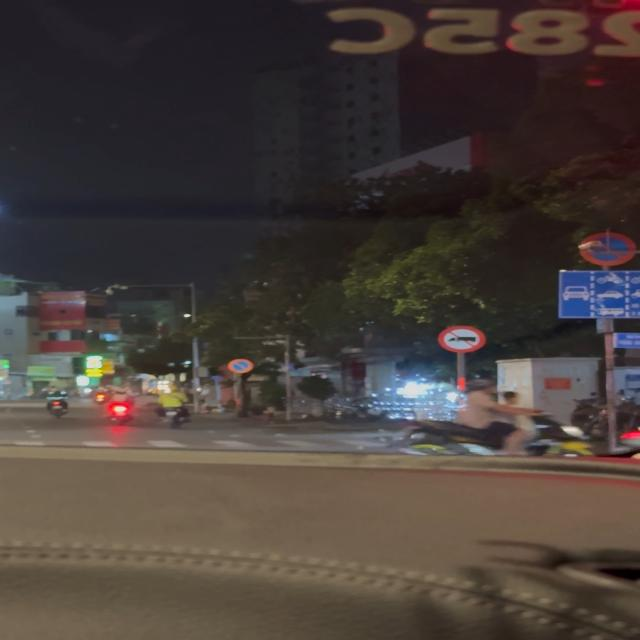Bien bao cam xe so-mi ro-mooc: (436, 323, 488, 356)
